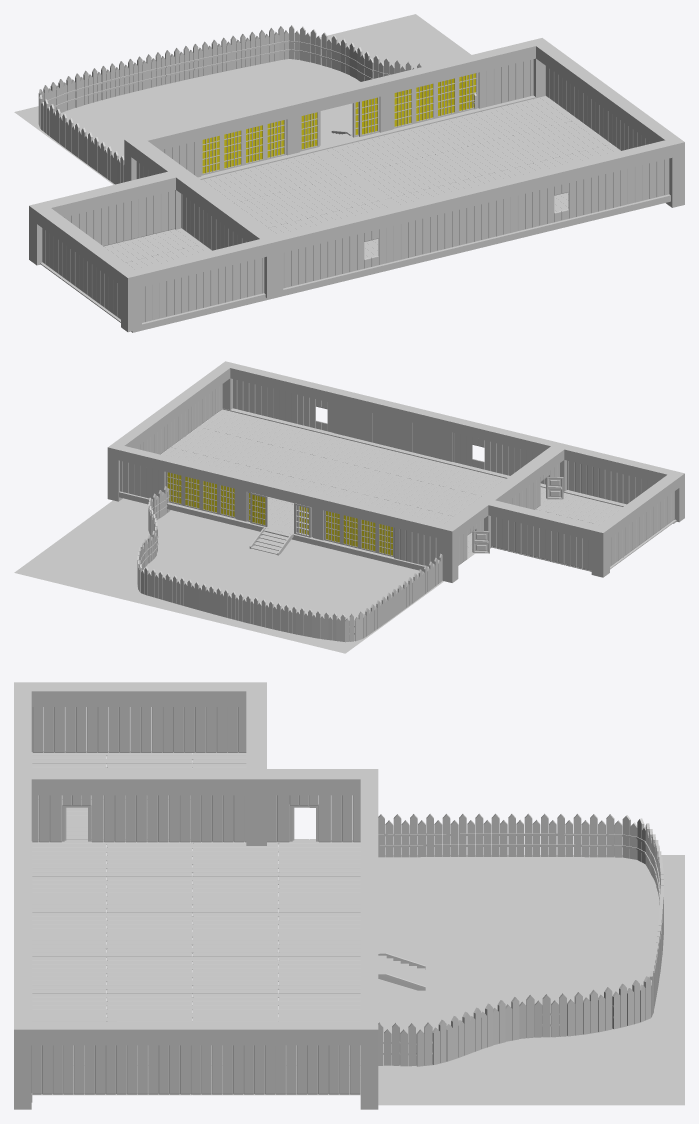
File: DojoEnviromnet.fbx
The picture shows the model from 3 angles, top to bottom: view 1: azimuth 30°, elevation 25°; view 2: azimuth 150°, elevation 25°; view 3: azimuth 270°, elevation 25°; orthographic projection. The views are drawn at different scales.
Parts seen in each view (by area): view 1: Cube.019, Cube.007, Cube.008, Plane, Cube.075, Cube.068, Cube.018, Cube.011, Cube.010, Cube.009, Cube.012, Cube.017 (+21 smaller); view 2: Plane, Cube.019, Cube.007, Cube.075, Cube.008, Cube.069, Cube.013, Cube.011, Cube.017, Cube.010, Cube.009, Cube.068 (+3 smaller); view 3: Cube.007, Plane, Cube.019, Cube.075, Cube.010, Cube.012, Cube.009.
Boxes of the visible parts, <box> form: Cube.019: <box>29,38,684,332</box>; Cube.007: <box>40,96,620,322</box>; Cube.008: <box>142,158,669,322</box>; Plane: <box>14,14,471,184</box>; Cube.075: <box>38,25,476,184</box>; Cube.068: <box>131,194,670,332</box>; Cube.018: <box>64,190,175,246</box>; Cube.011: <box>160,59,533,177</box>; Cube.010: <box>545,66,651,150</box>; Cube.009: <box>42,228,120,319</box>; Cube.012: <box>136,161,246,250</box>; Cube.017: <box>198,95,535,179</box>; Plane: <box>14,498,443,653</box>; Cube.019: <box>107,361,684,582</box>; Cube.007: <box>161,409,676,571</box>; Cube.075: <box>137,486,442,642</box>; Cube.008: <box>233,379,656,504</box>; Cube.069: <box>333,403,452,461</box>; Cube.013: <box>491,516,591,570</box>; Cube.011: <box>120,460,438,566</box>; Cube.017: <box>119,491,428,571</box>; Cube.010: <box>135,384,222,454</box>; Cube.009: <box>610,491,674,566</box>; Cube.068: <box>222,408,676,523</box>; Cube.007: <box>32,751,360,1095</box>; Plane: <box>378,855,684,1105</box>; Cube.019: <box>14,682,378,1109</box>; Cube.075: <box>378,813,663,1066</box>; Cube.010: <box>31,1045,360,1094</box>; Cube.012: <box>31,795,360,842</box>; Cube.009: <box>31,707,246,752</box>.
Bounding box in the file's own units: 4714 × 521 × 3851.
